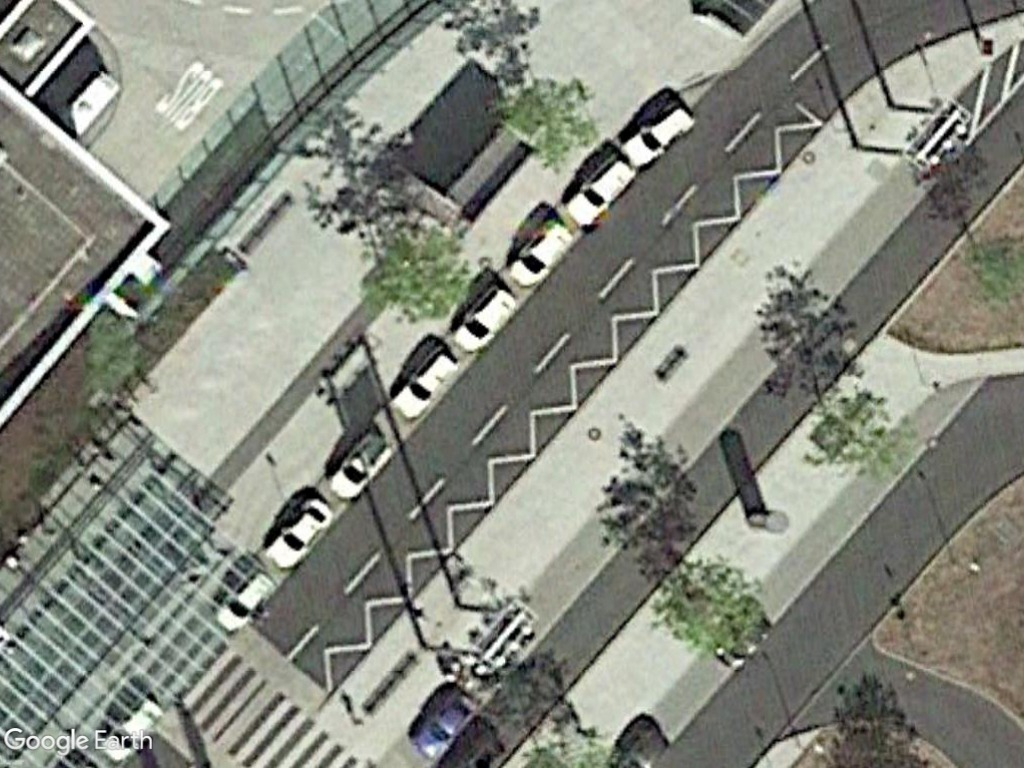car: (615, 90, 706, 177), (445, 277, 526, 370), (566, 142, 640, 237), (325, 425, 400, 508), (259, 495, 334, 576), (389, 345, 461, 428), (510, 210, 574, 294), (208, 564, 278, 640)
